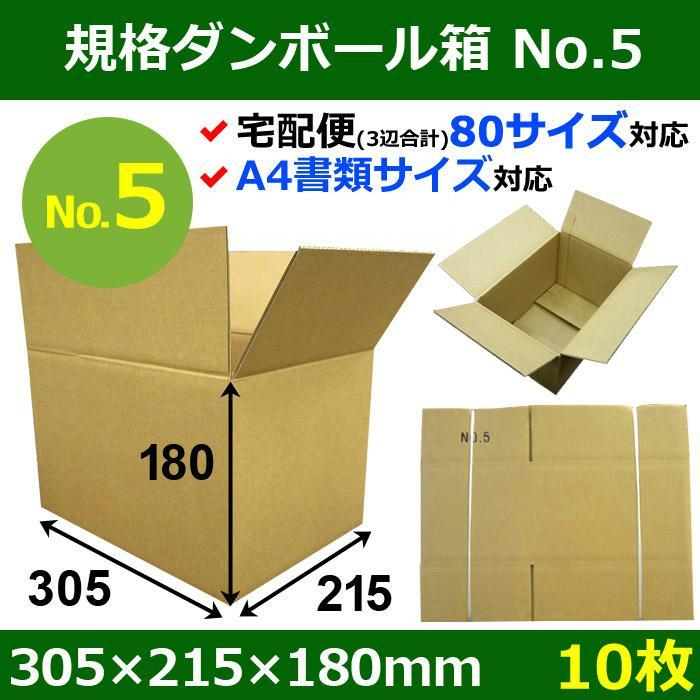box: (14, 237, 384, 591), (418, 405, 692, 621), (436, 200, 665, 393)
